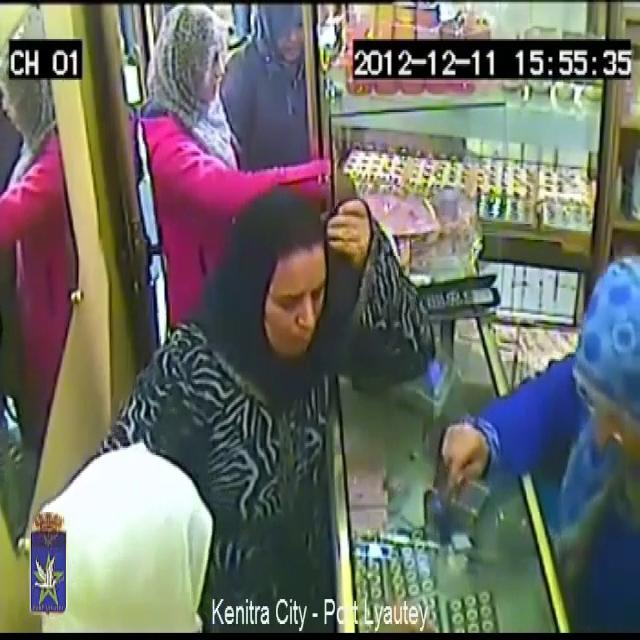normal: (412, 263, 640, 640), (0, 403, 235, 640), (142, 0, 345, 223), (214, 178, 345, 396), (228, 0, 314, 192)
